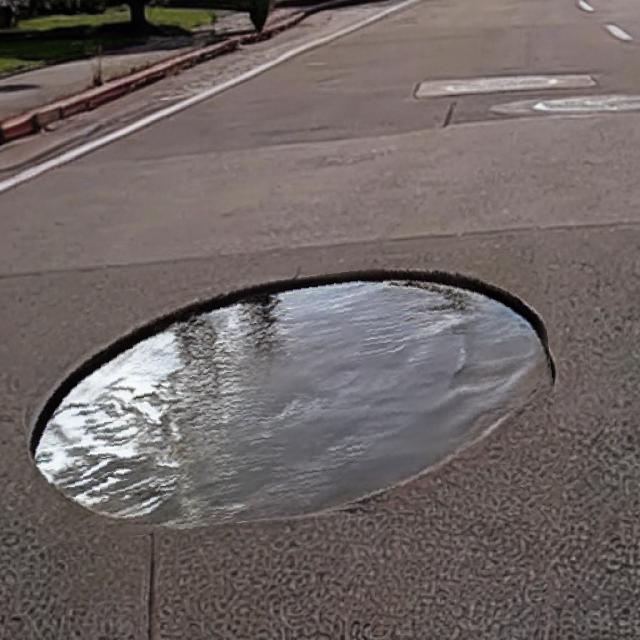puddle: (18, 265, 560, 533)
